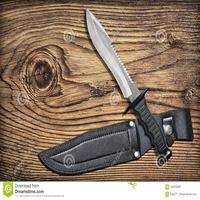knife: (79, 5, 175, 173)
